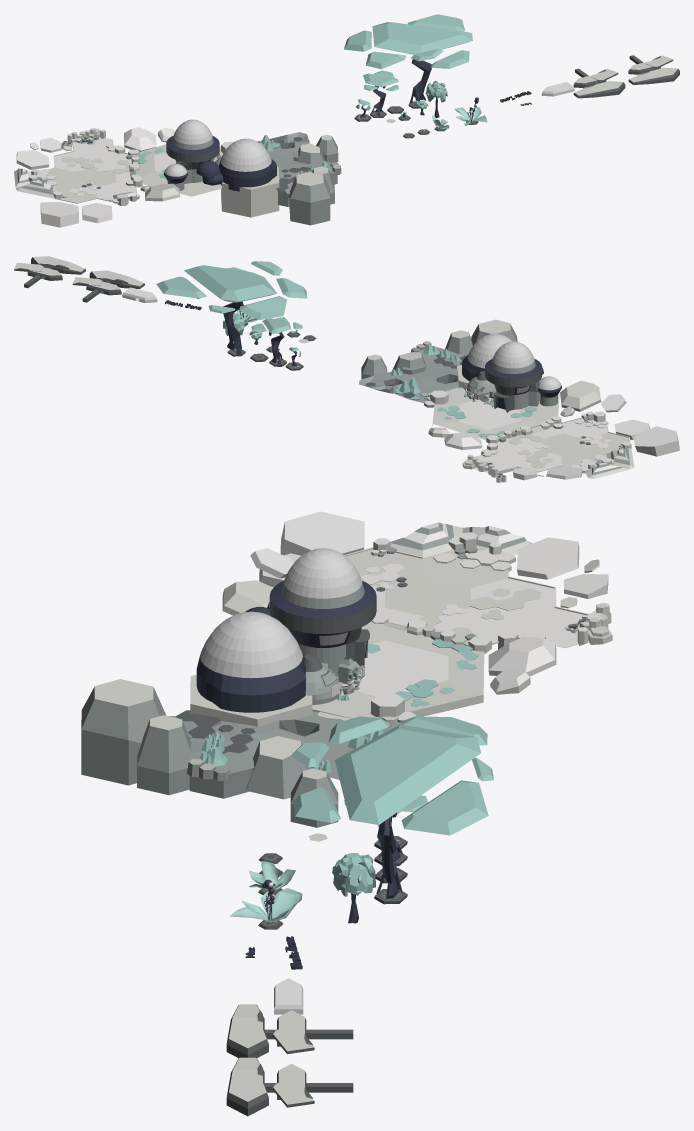
The model's file is Machine_essence.fbx.
3 renders of one model, top to bottom at view 1: azimuth 30°, elevation 25°; view 2: azimuth 150°, elevation 25°; view 3: azimuth 270°, elevation 25°, orthographic. The views are drawn at different scales.
Visible parts, largest first — view 1: Plantation, spacioport, Decosol01.017, Ressource, Spacioportmap, Plane, DEco01.002, Decosol01.016, Rocher02, Buisson_phase3, Fleur03, Plane.001; view 2: Plantation, spacioport, Decosol01.017, Spacioportmap, Ressource, Plane, DEco01.002, Decosol01.016, Rocher02, Plane.001, rocher04, Decosol01.003; view 3: spacioport, Ressource, Plantation, Decosol01.017, Spacioportmap, Plane, DEco01.002, Buisson_phase3, Fleur03, Rocher02, Decosol01.003, rocher04 (+2 smaller).
Boxes of the visible parts, bbox=[...] form: Plantation: bbox=[16, 137, 136, 227]; spacioport: bbox=[164, 119, 276, 191]; Decosol01.017: bbox=[344, 14, 472, 103]; Ressource: bbox=[257, 132, 338, 225]; Spacioportmap: bbox=[124, 127, 279, 217]; Plane: bbox=[500, 55, 679, 105]; DEco01.002: bbox=[14, 167, 139, 206]; Decosol01.016: bbox=[363, 70, 398, 115]; Rocher02: bbox=[61, 128, 105, 149]; Buisson_phase3: bbox=[425, 80, 447, 117]; Fleur03: bbox=[454, 97, 487, 125]; Plane.001: bbox=[541, 82, 574, 96]; Plantation: bbox=[473, 394, 679, 480]; spacioport: bbox=[462, 333, 561, 412]; Decosol01.017: bbox=[156, 261, 307, 354]; Spacioportmap: bbox=[428, 365, 601, 449]; Ressource: bbox=[359, 319, 517, 403]; Plane: bbox=[14, 256, 201, 310]; DEco01.002: bbox=[564, 411, 634, 478]; Decosol01.016: bbox=[251, 317, 302, 366]; Rocher02: bbox=[462, 454, 506, 482]; Plane.001: bbox=[122, 287, 157, 302]; rocher04: bbox=[486, 425, 531, 443]; Decosol01.003: bbox=[518, 449, 552, 468]; spacioport: bbox=[196, 548, 376, 712]; Ressource: bbox=[81, 679, 401, 827]; Plantation: bbox=[250, 511, 608, 648]; Decosol01.017: bbox=[291, 716, 493, 898]; Spacioportmap: bbox=[190, 580, 556, 726]; Plane: bbox=[226, 936, 353, 1116]; DEco01.002: bbox=[390, 522, 531, 577]; Buisson_phase3: bbox=[333, 853, 375, 923]; Fleur03: bbox=[229, 879, 302, 922]; Rocher02: bbox=[565, 602, 612, 645]; Decosol01.003: bbox=[469, 588, 541, 620]; rocher04: bbox=[407, 619, 491, 653].
Bounding box in the file's own units: 4623 × 679 × 1703.
